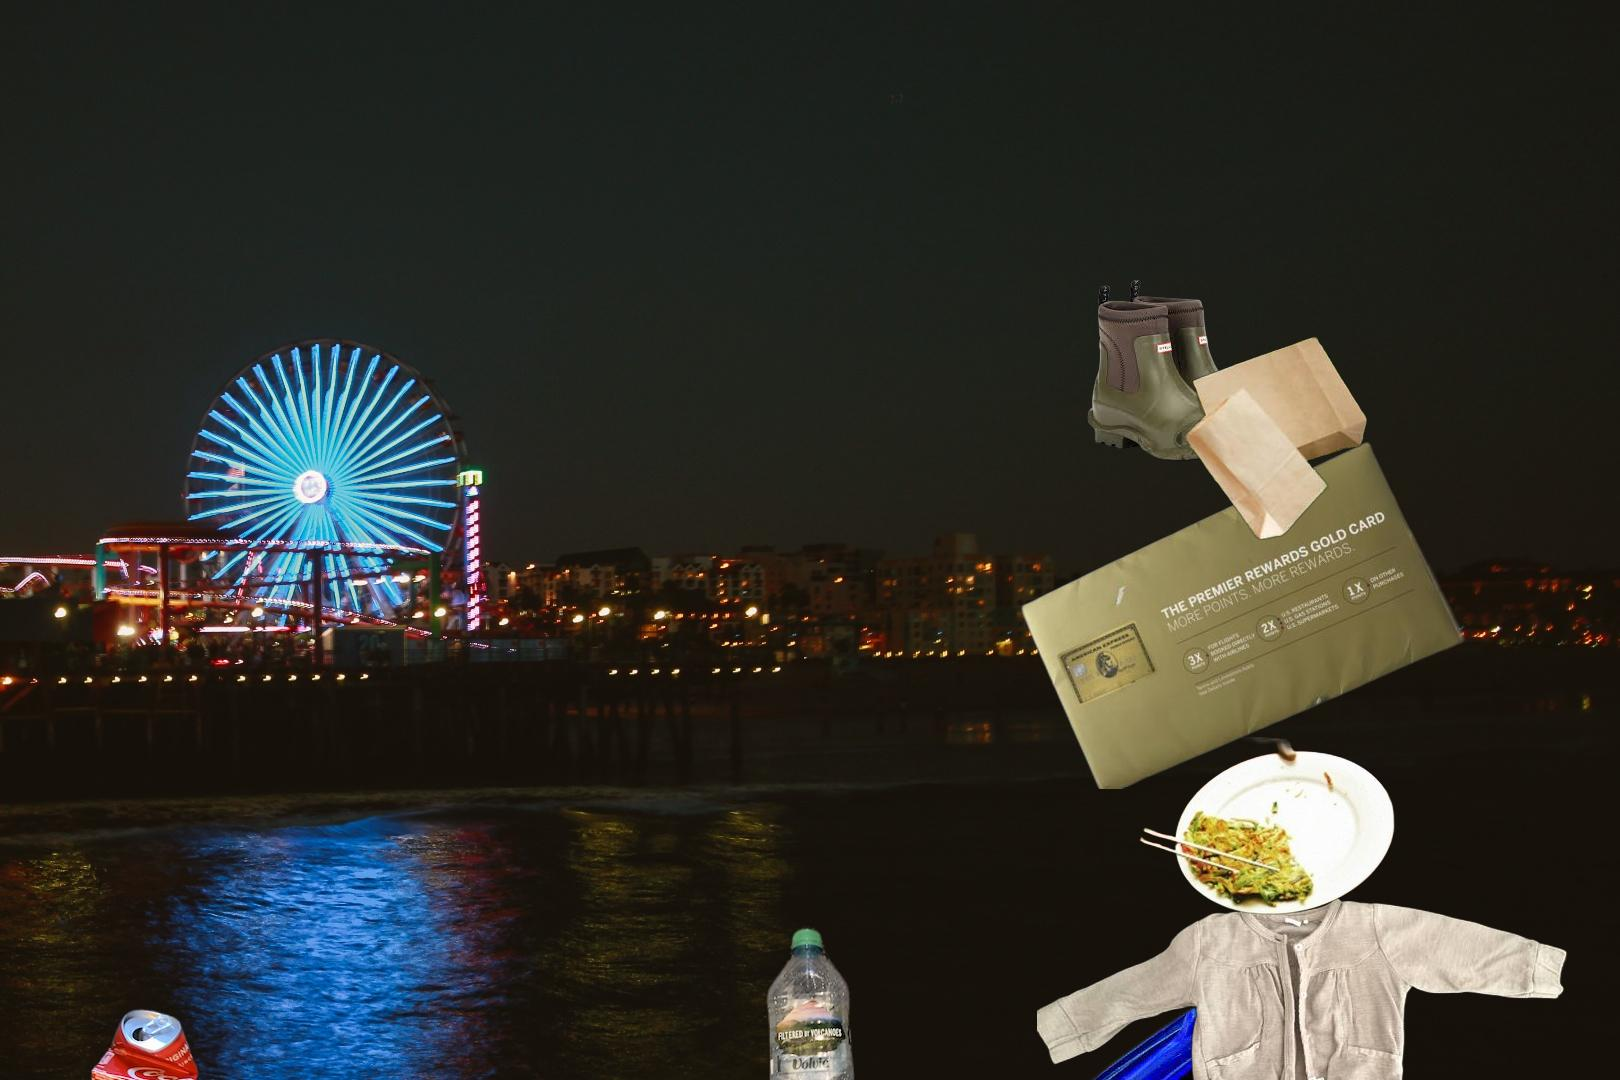biological: (1017, 736, 1397, 917)
clothes: (1037, 808, 1571, 1080)
metal-cans: (86, 1003, 204, 1080)
paper: (1017, 438, 1471, 790)
paper-bag: (1170, 334, 1370, 542)
penholder: (702, 999, 1395, 1080)
plastic-bottles: (763, 920, 869, 1080)
shoes: (1086, 277, 1297, 463)
